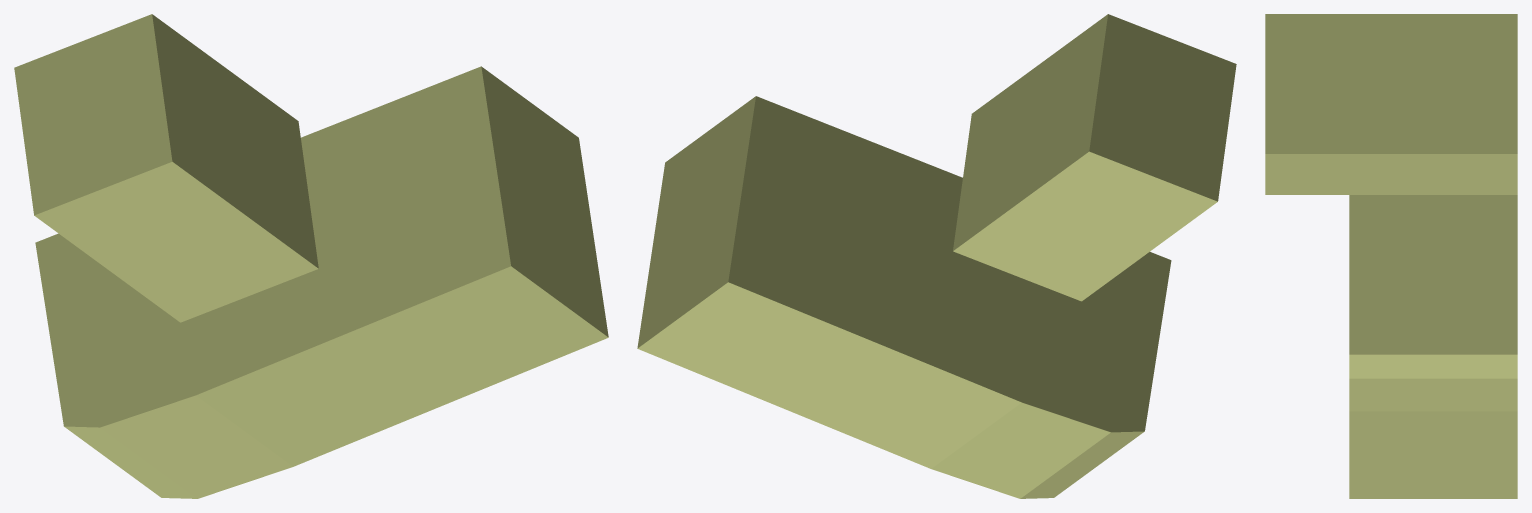
3 views of the same model, side by side, from view 1: azimuth 30°, elevation 25°; view 2: azimuth 150°, elevation 25°; view 3: azimuth 270°, elevation 25° (orthographic). The views are drawn at different scales.
Parts seen in each view (by area): view 1: 0_1_3_2_2_2_1_0_0; view 2: 0_1_3_2_2_2_1_0_0; view 3: 0_1_3_2_2_2_1_0_0.
Boxes of the visible parts, x1,y1,x2,y2 form: 0_1_3_2_2_2_1_0_0: (14,14,608,498); 0_1_3_2_2_2_1_0_0: (637,14,1236,498); 0_1_3_2_2_2_1_0_0: (1265,14,1517,498).
Size of the model in its own units: 17.64 by 13.6 by 9.
